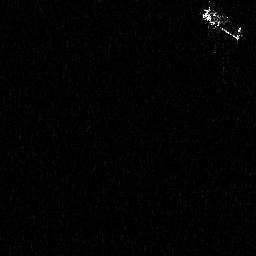ship: (200, 4, 244, 42)
